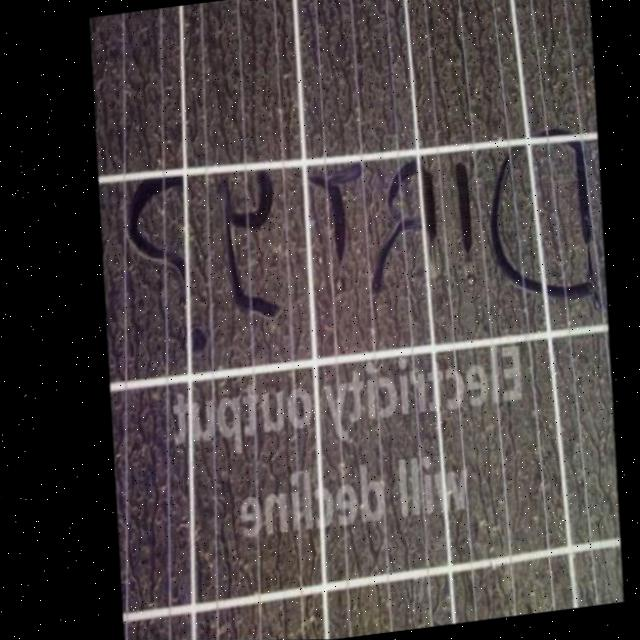Anomaly Solar Panel: (48, 0, 640, 640)
Surface Contaminant: (48, 0, 640, 640)
